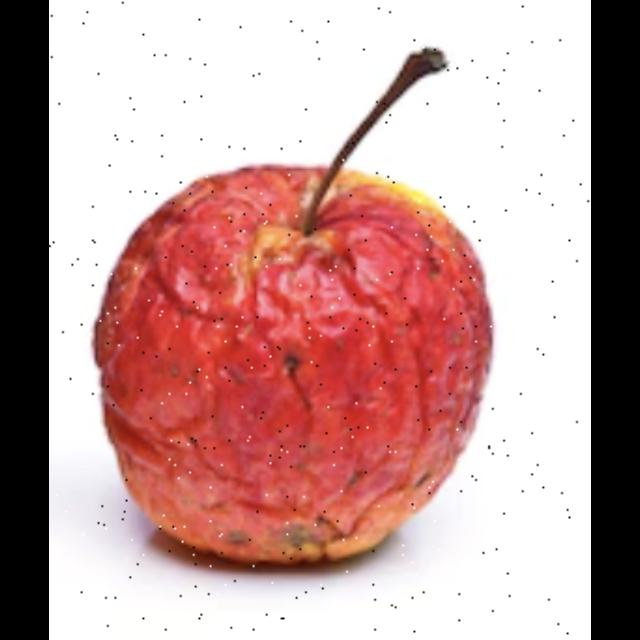Apel Tidak Segar: (59, 22, 571, 600)
